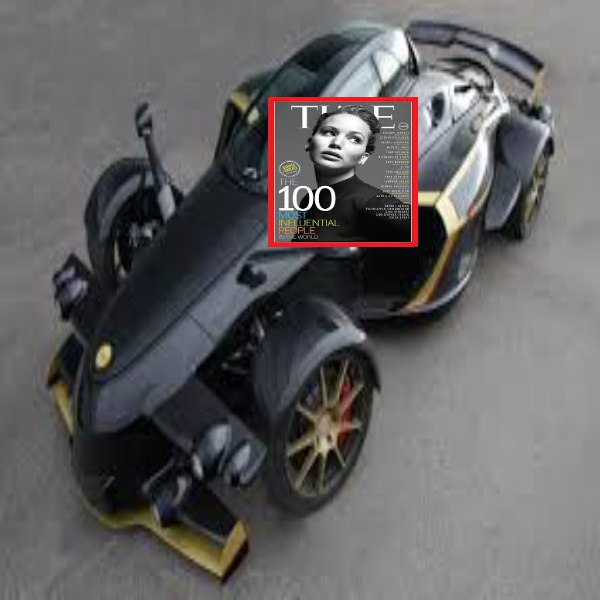time_cover: (255, 86, 424, 258)
